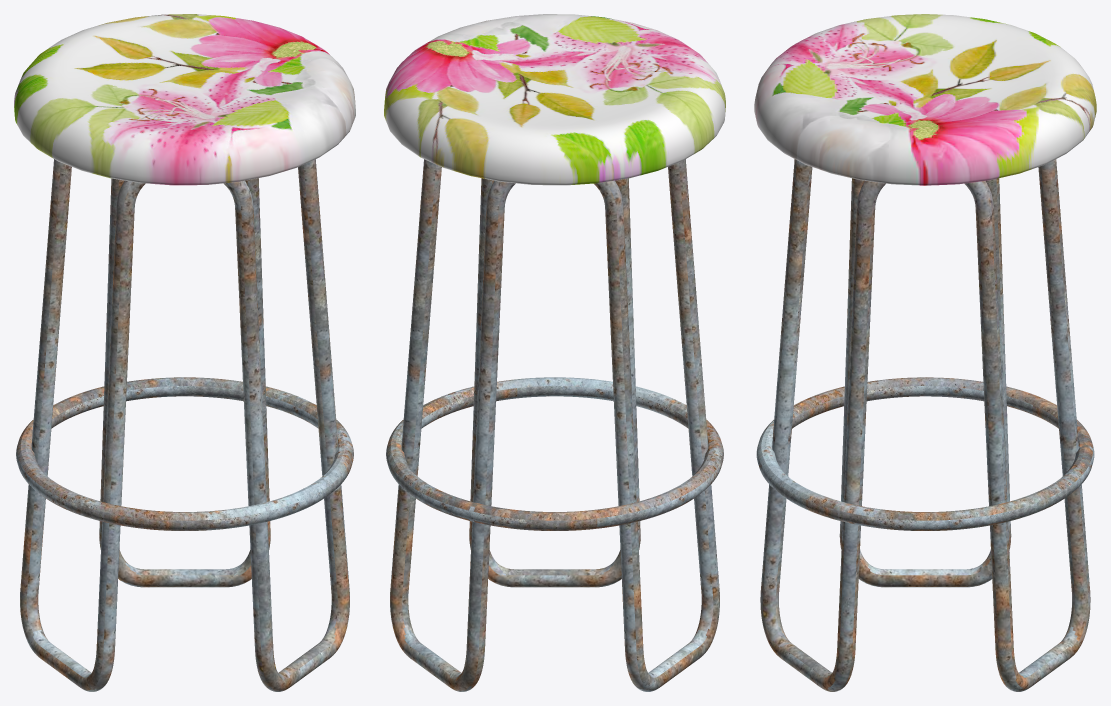
The model's file is JDchear1.fbx.
The picture shows the model from 3 angles, left to right: view 1: azimuth 30°, elevation 25°; view 2: azimuth 150°, elevation 25°; view 3: azimuth 270°, elevation 25°; orthographic projection.
Visible parts, largest first — view 1: Cylinder, Cylinder.001; view 2: Cylinder, Cylinder.001; view 3: Cylinder, Cylinder.001.
Boxes of the visible parts, <box> form: Cylinder: <box>16,159,353,691</box>; Cylinder.001: <box>14,14,355,185</box>; Cylinder: <box>386,159,723,691</box>; Cylinder.001: <box>384,14,725,185</box>; Cylinder: <box>756,159,1094,691</box>; Cylinder.001: <box>754,14,1096,185</box>.
Size of the model in its own units: 20.9 by 38.39 by 20.9.
